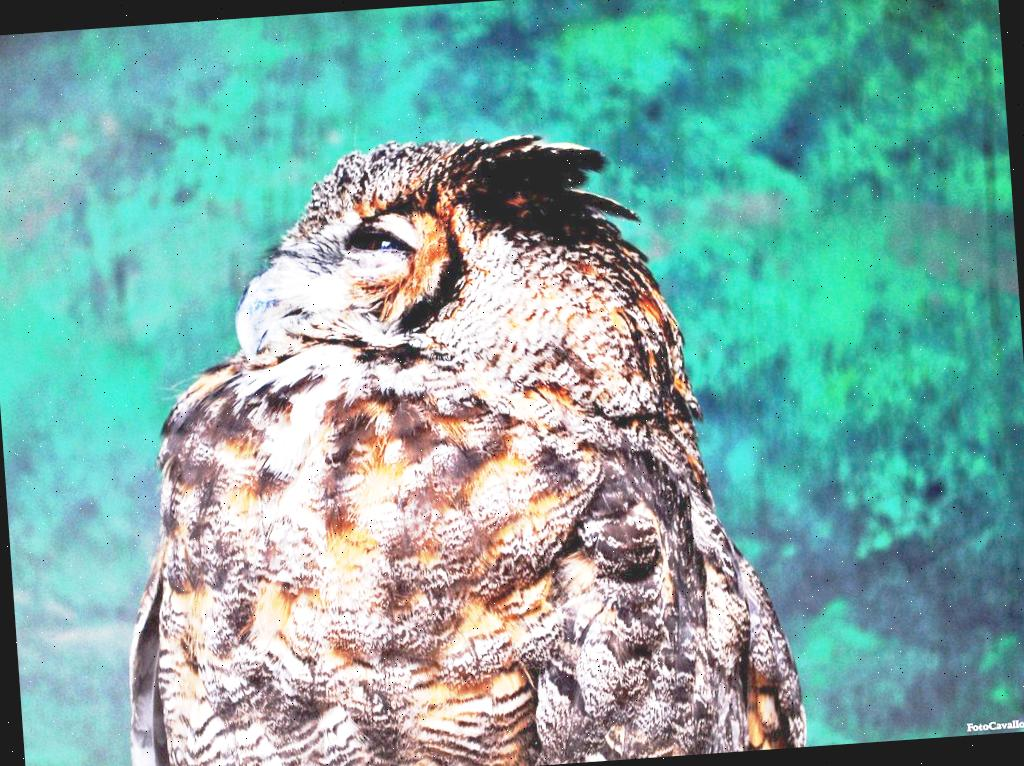Owl: (73, 106, 816, 766)
